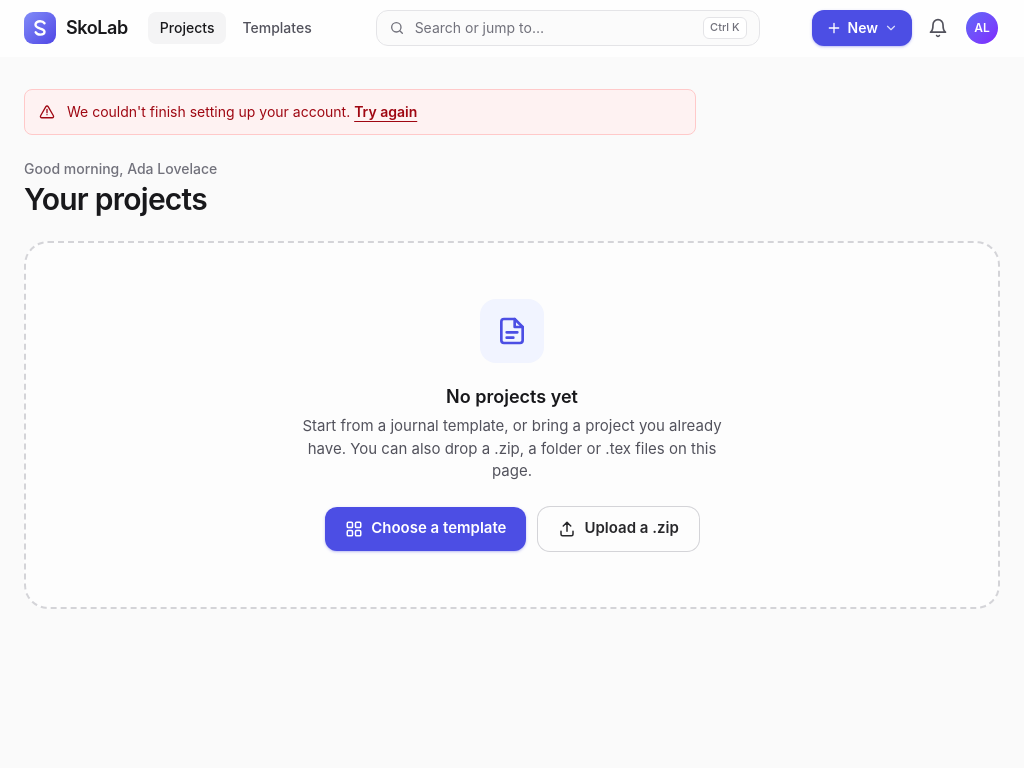
Test: home › lets the user retry a failed profile setup, and sign out
Check: the message shows "couldn't finish setting up", box [67,103,350,120]
Step 1. Click the button "Try again" → (386, 112), box [354,102,417,122]
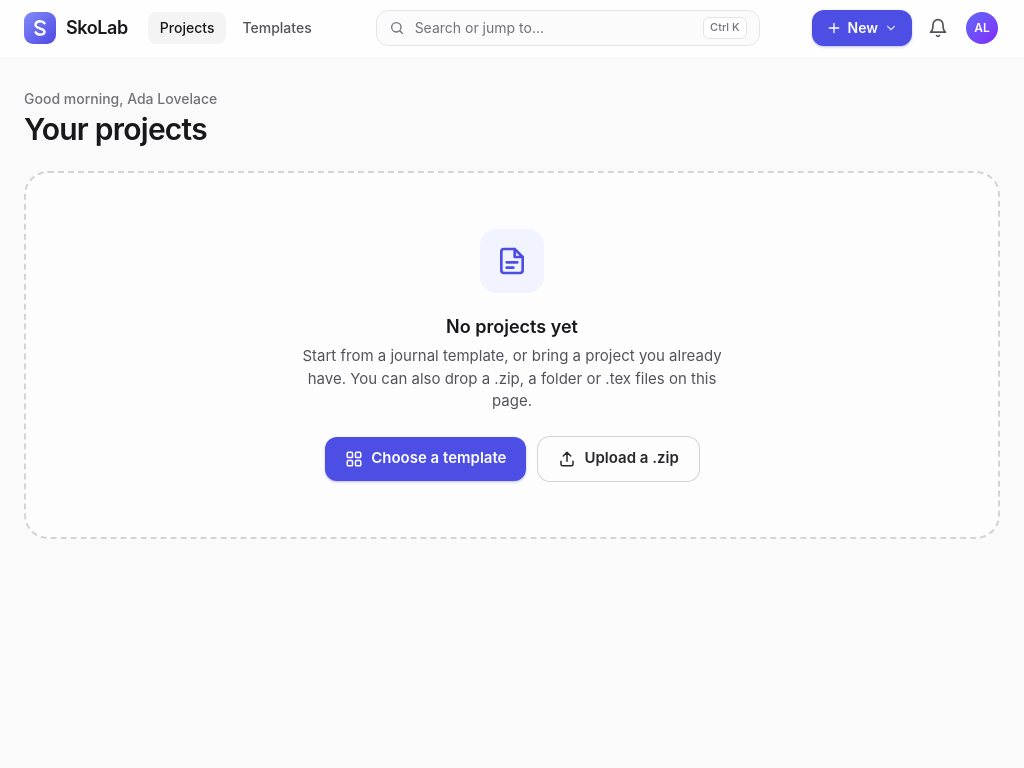
Check: the text "AL" is shown, box [966,12,998,44]
Check: the text "couldn't finish setting up" is gone
Step 2. Click the button with aria-label "Account" → (982, 28), box [964,10,1000,46]
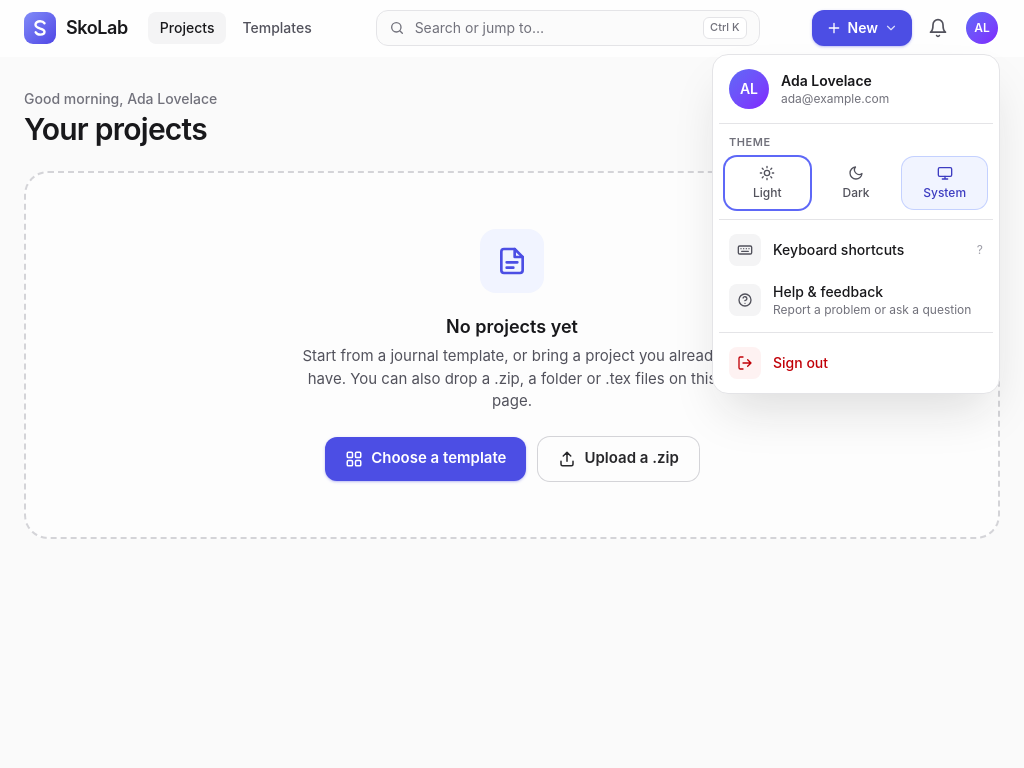
Step 3. Click the menu item "Sign out" → (745, 362), box [719,338,993,386]
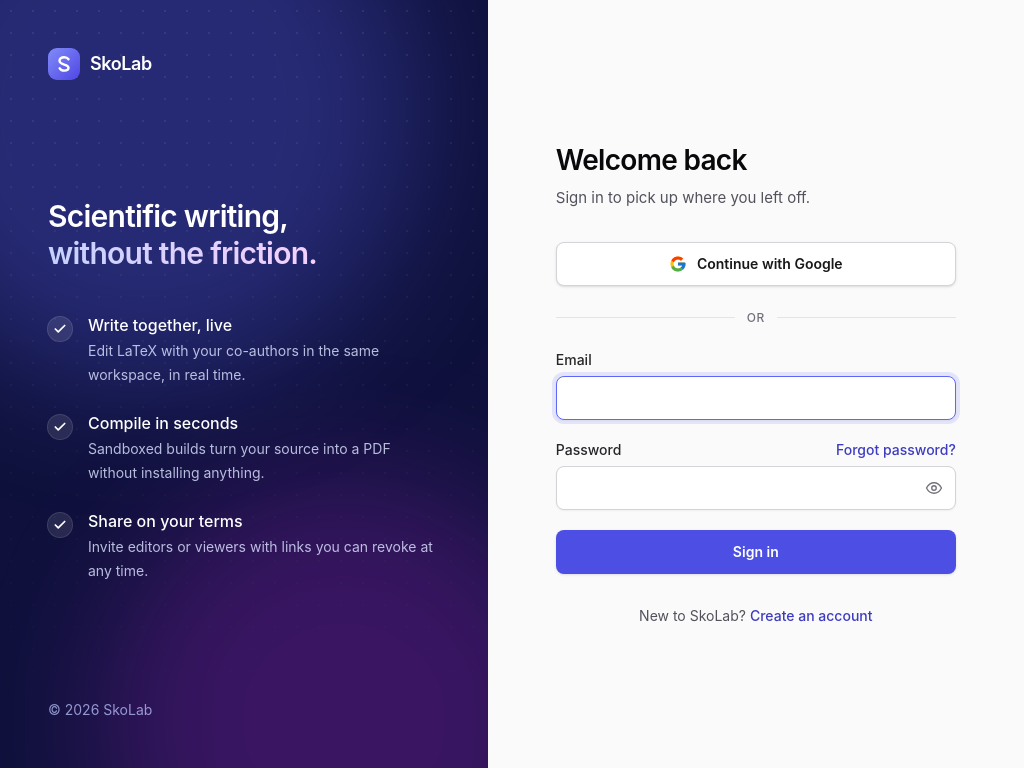
Check: the heading "Welcome back" is shown, box [556,142,747,176]
